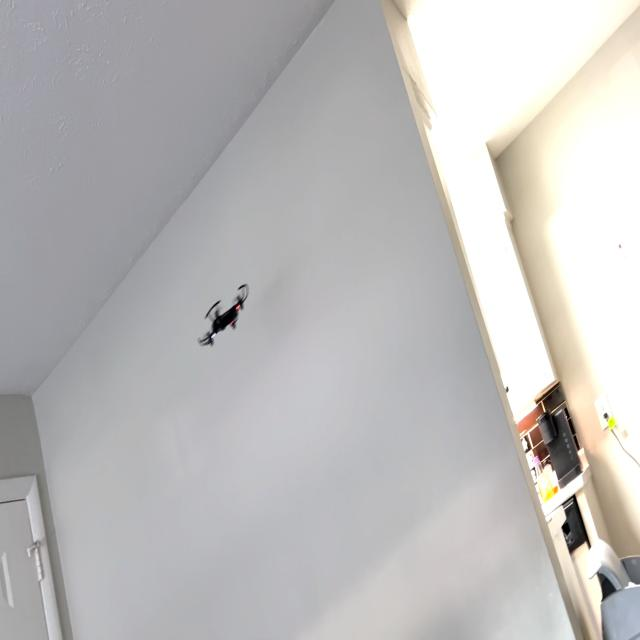drone: (189, 271, 257, 362)
